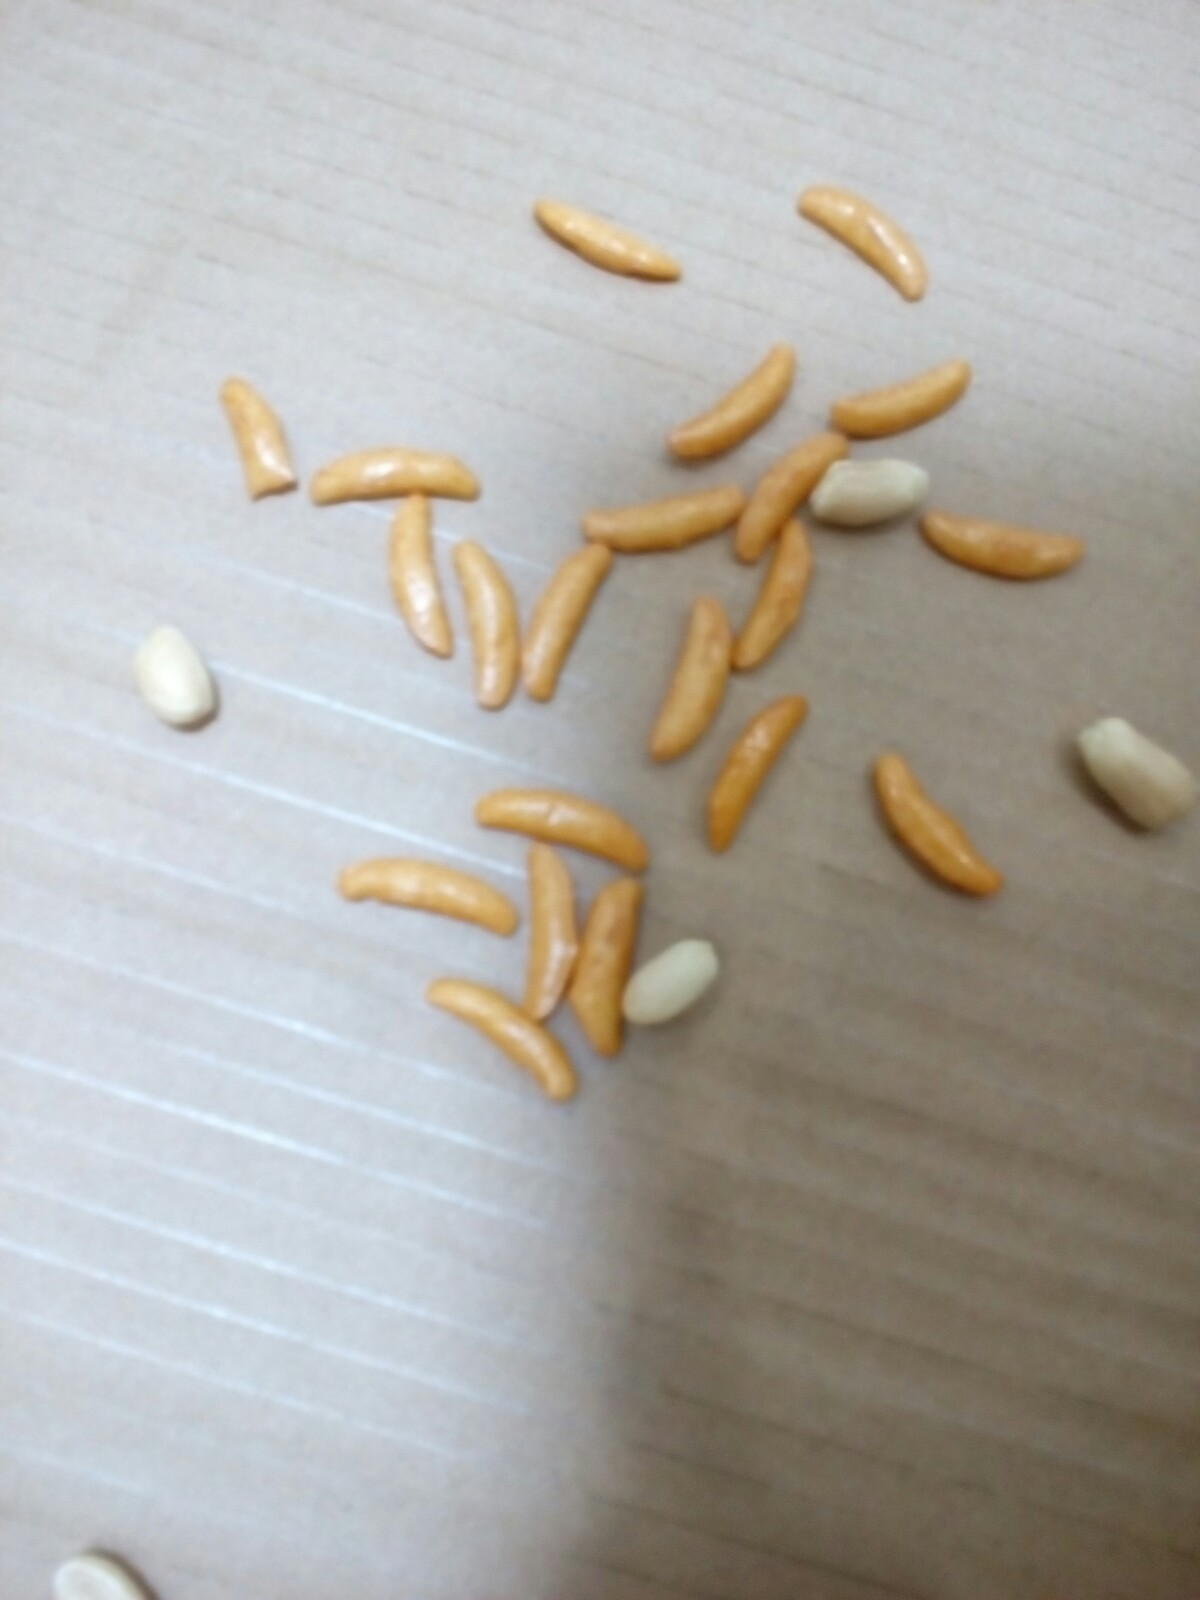peanut: (1065, 697, 1196, 853), (609, 927, 734, 1044), (129, 612, 228, 748), (803, 454, 942, 533)
